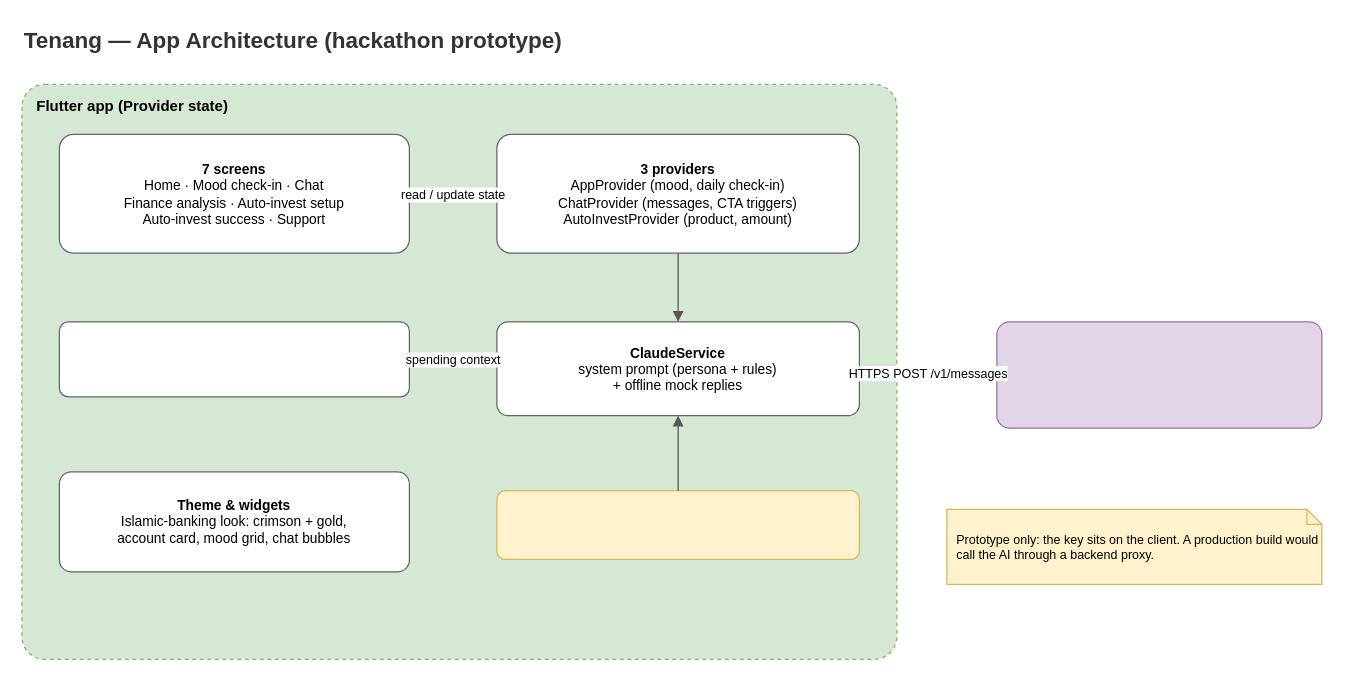
Some shapes in this 1369 by 681 pixel diagram are drawn without their labels. Here are the shapes that lost their labels. From the top down, the box of each, then its label:
(58, 321, 409, 397): MockFinanceService static demo spending data
(996, 321, 1322, 428): Anthropic API Claude Haiku product feature integrated via API
(496, 489, 859, 559): .env (flutter_dotenv) API key — never committed
